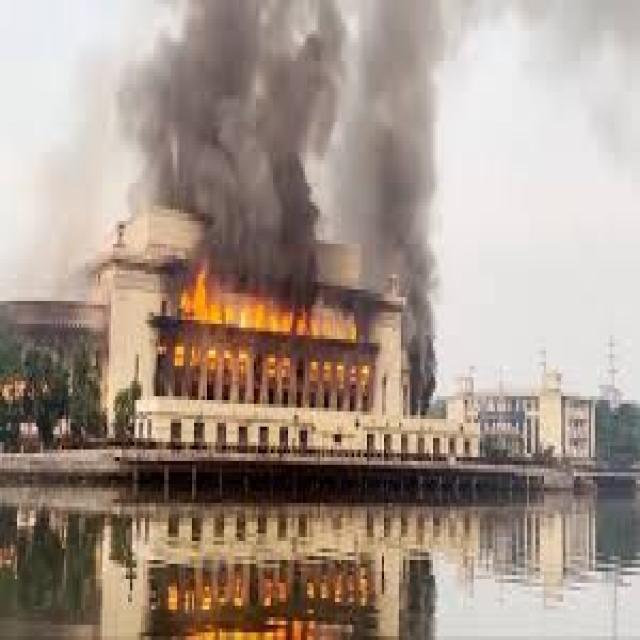Fire: (182, 262, 357, 342), (362, 364, 372, 394), (190, 346, 202, 370), (206, 347, 218, 369), (266, 356, 276, 380), (280, 358, 290, 380), (222, 352, 232, 373), (176, 343, 184, 369), (238, 352, 246, 372), (335, 364, 343, 382), (323, 360, 330, 380), (312, 361, 318, 376)
Smoke: (127, 0, 348, 305), (356, 0, 438, 416)
